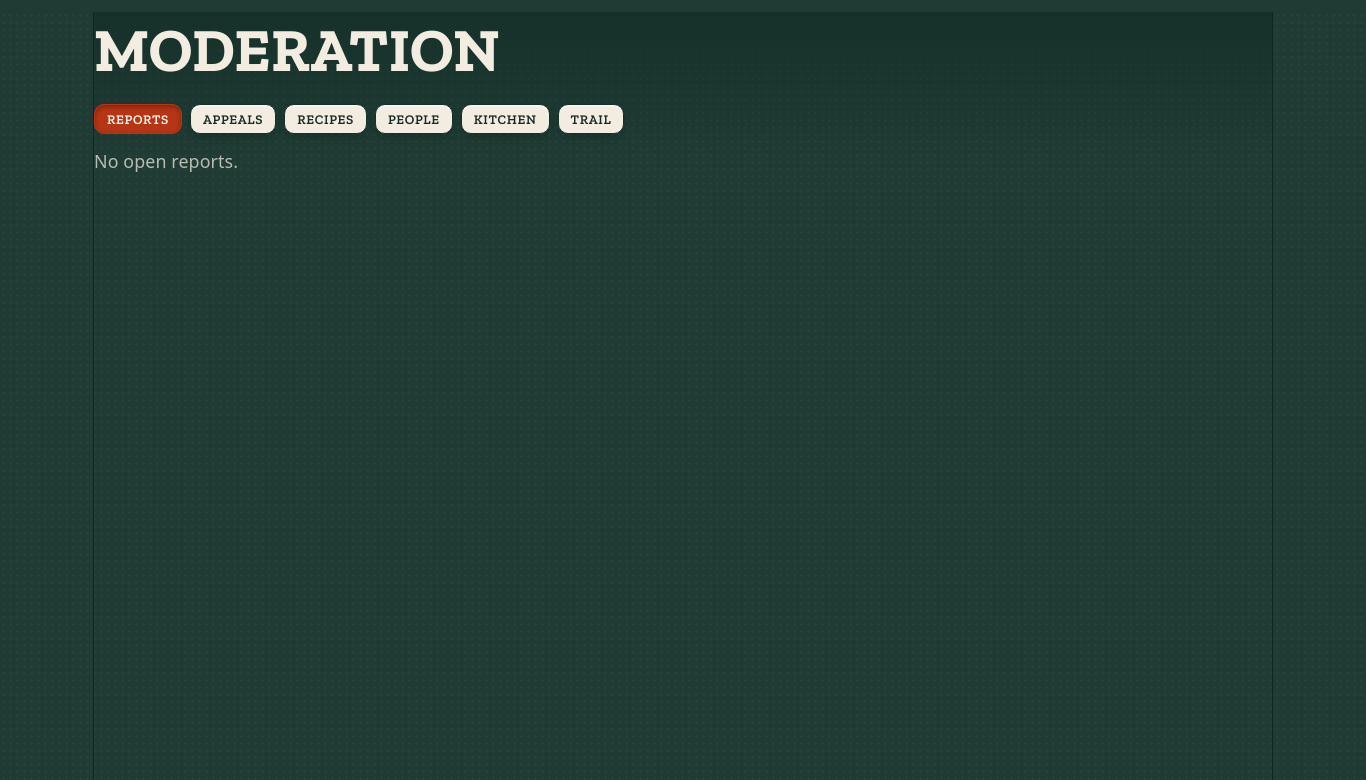
Scenario: grants an appeal through the RPC and drops the row
Click the button "Appeals" at (233, 119), box x1=190 y1=104 x2=276 y2=134
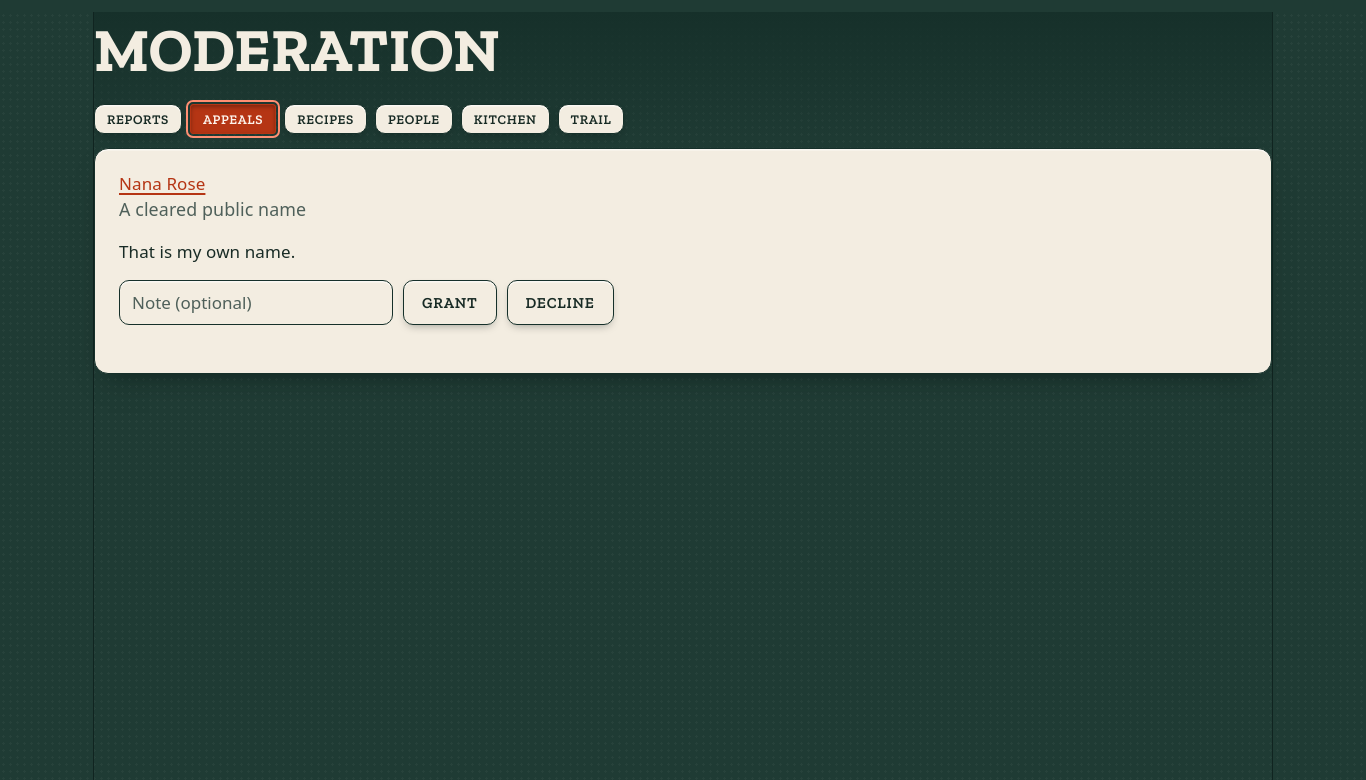
Click the button "Grant" at (450, 303), box x1=403 y1=280 x2=496 y2=325
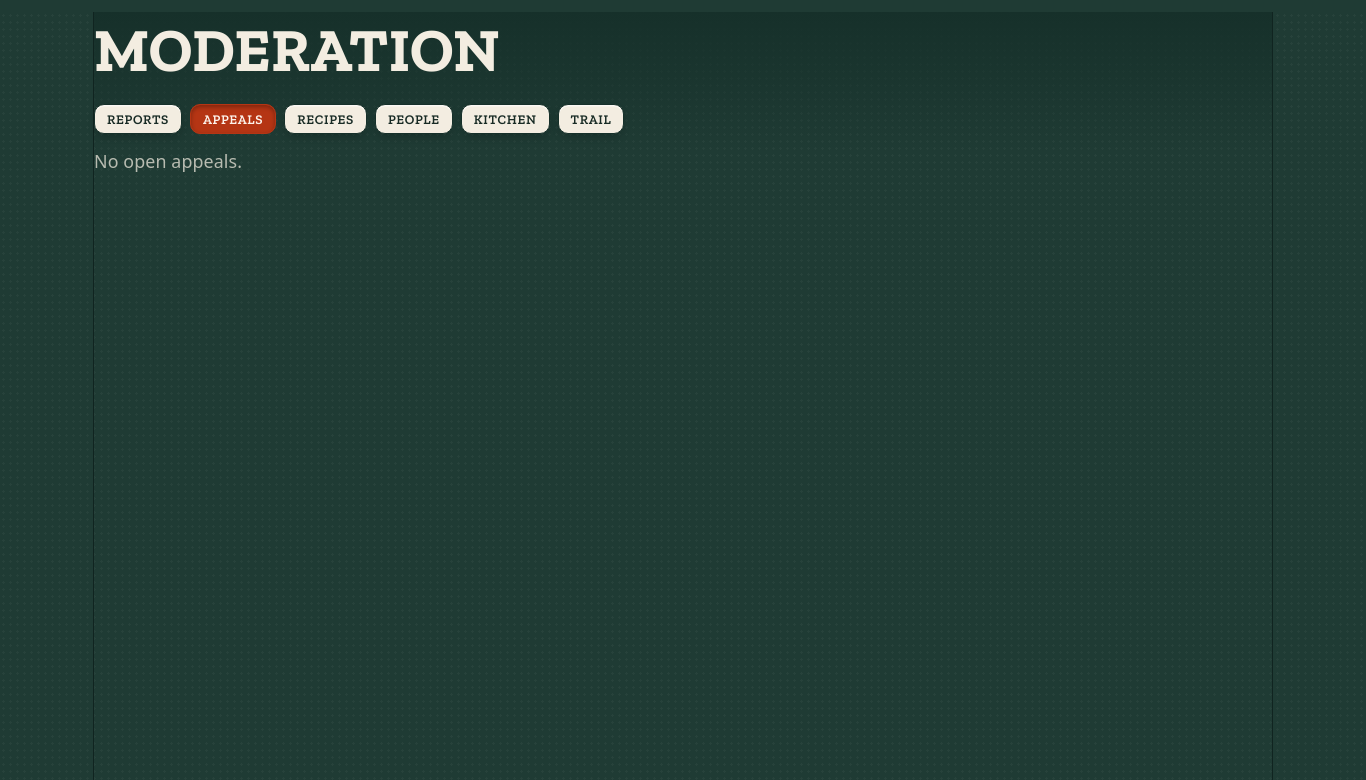
Now the text "That is my own name." is gone
